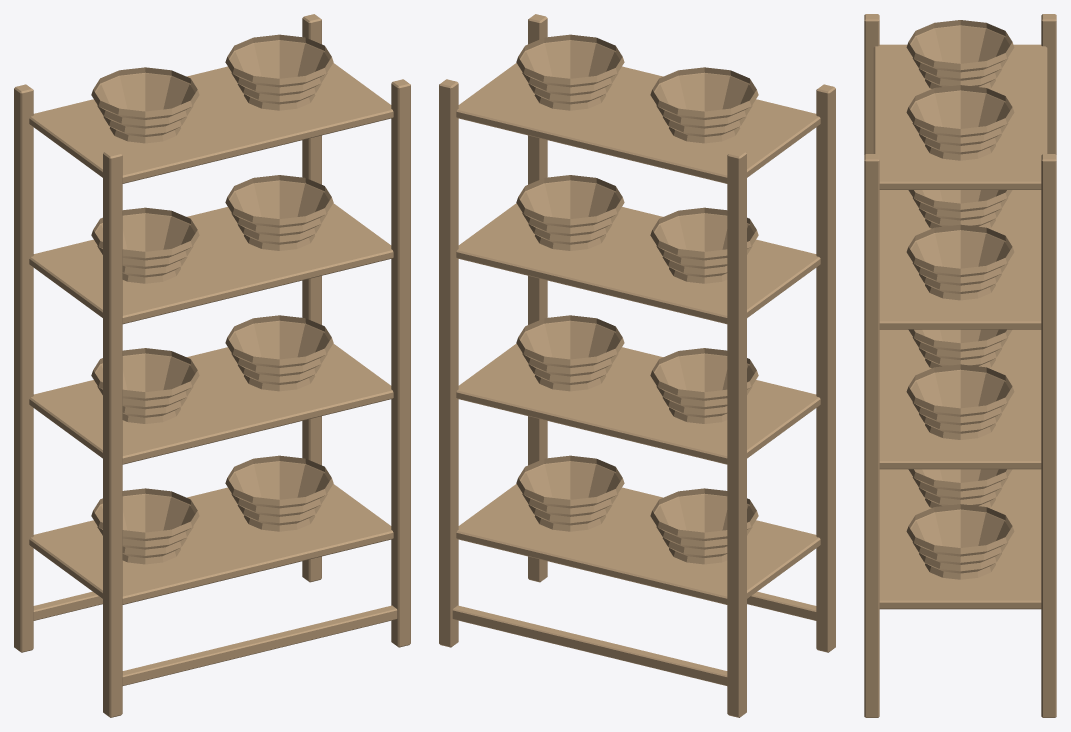
File: bakery-and-cafe-banneton-rack-ab34db73__22191.glb
3 views of the same model, side by side, from view 1: azimuth 30°, elevation 25°; view 2: azimuth 150°, elevation 25°; view 3: azimuth 270°, elevation 25° (orthographic).
Parts seen in each view (by area): view 1: banneton-rack; view 2: banneton-rack; view 3: banneton-rack.
Part boxes in pixels (box(x1,y1,x2,y2)): banneton-rack: box(14, 14, 410, 717); banneton-rack: box(439, 14, 835, 717); banneton-rack: box(864, 14, 1056, 717).
Size of the model in its own units: 0.9 by 1.63 by 0.5.
